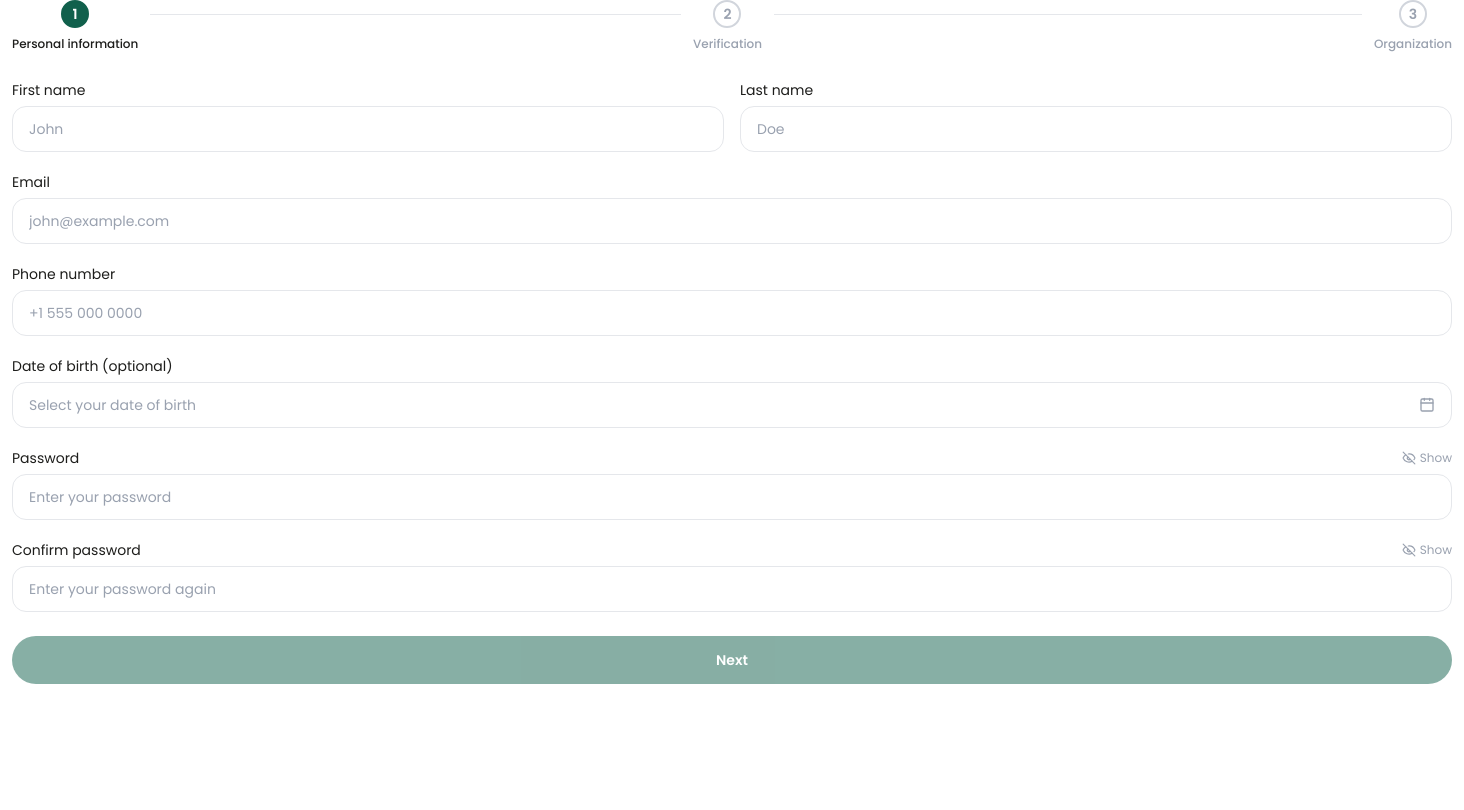
Test: SignUpForm › shows the phone-taken message on a phone-only 409 without checking status or navigating
Type "Sara" into the field with id "firstName" at [368, 129], box [12, 106, 724, 152]
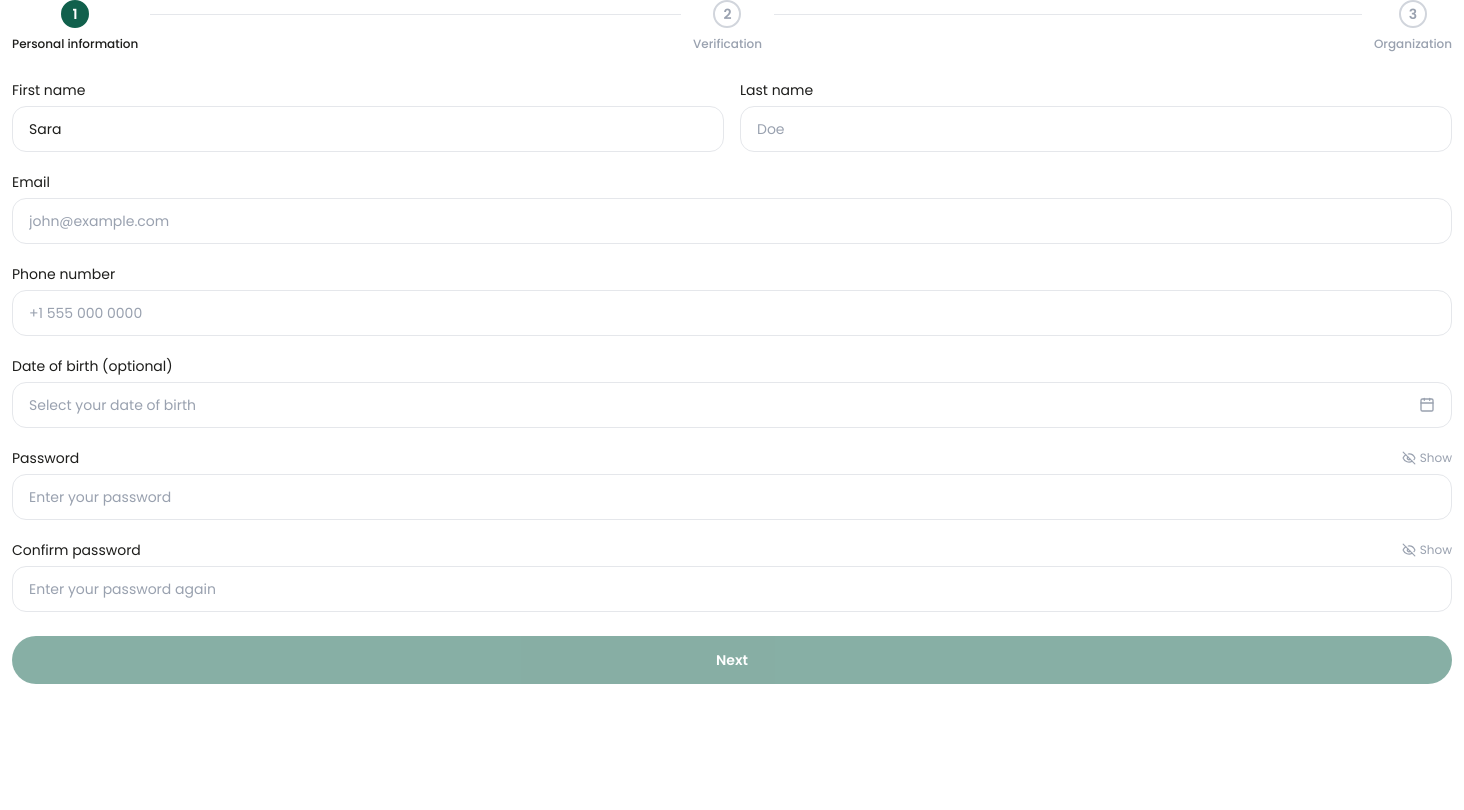
Type "Ali" into the field with id "lastName" at [1096, 129], box [740, 106, 1452, 152]
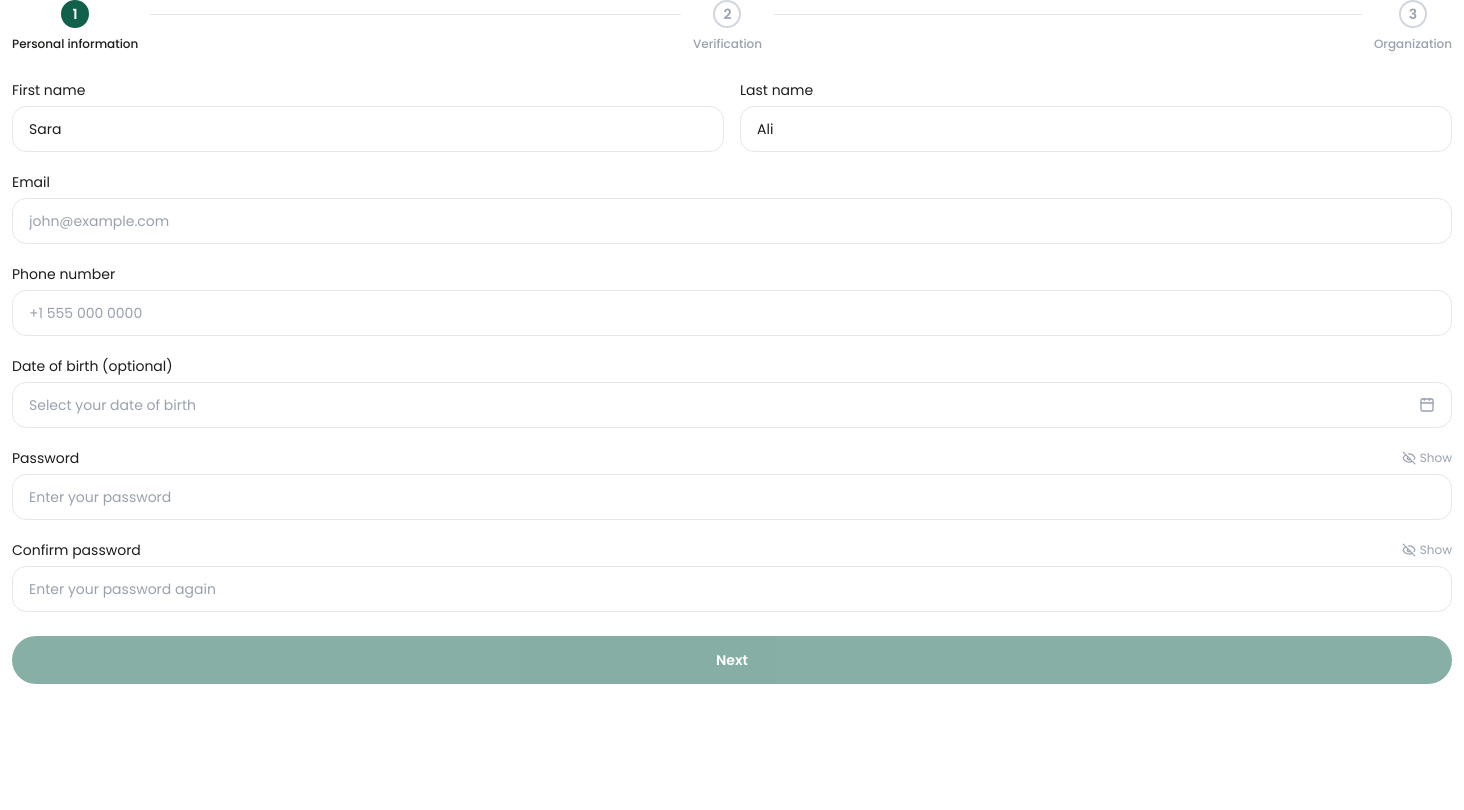
Type "sara@example.com" into the field with id "email" at [732, 221], box [12, 198, 1452, 244]
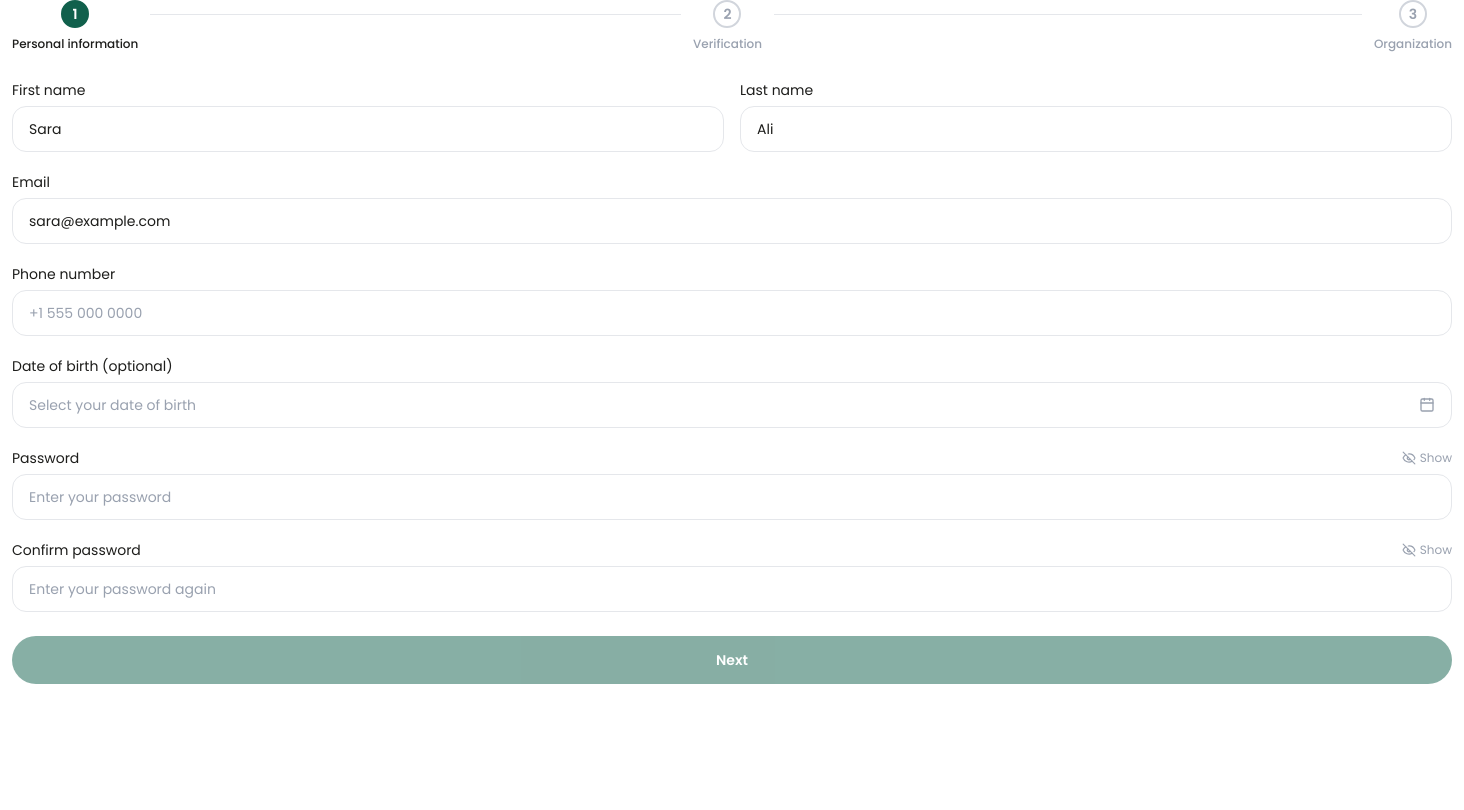
Type "Password1!" into the password field labelled "Password" at [732, 497], box [12, 474, 1452, 520]
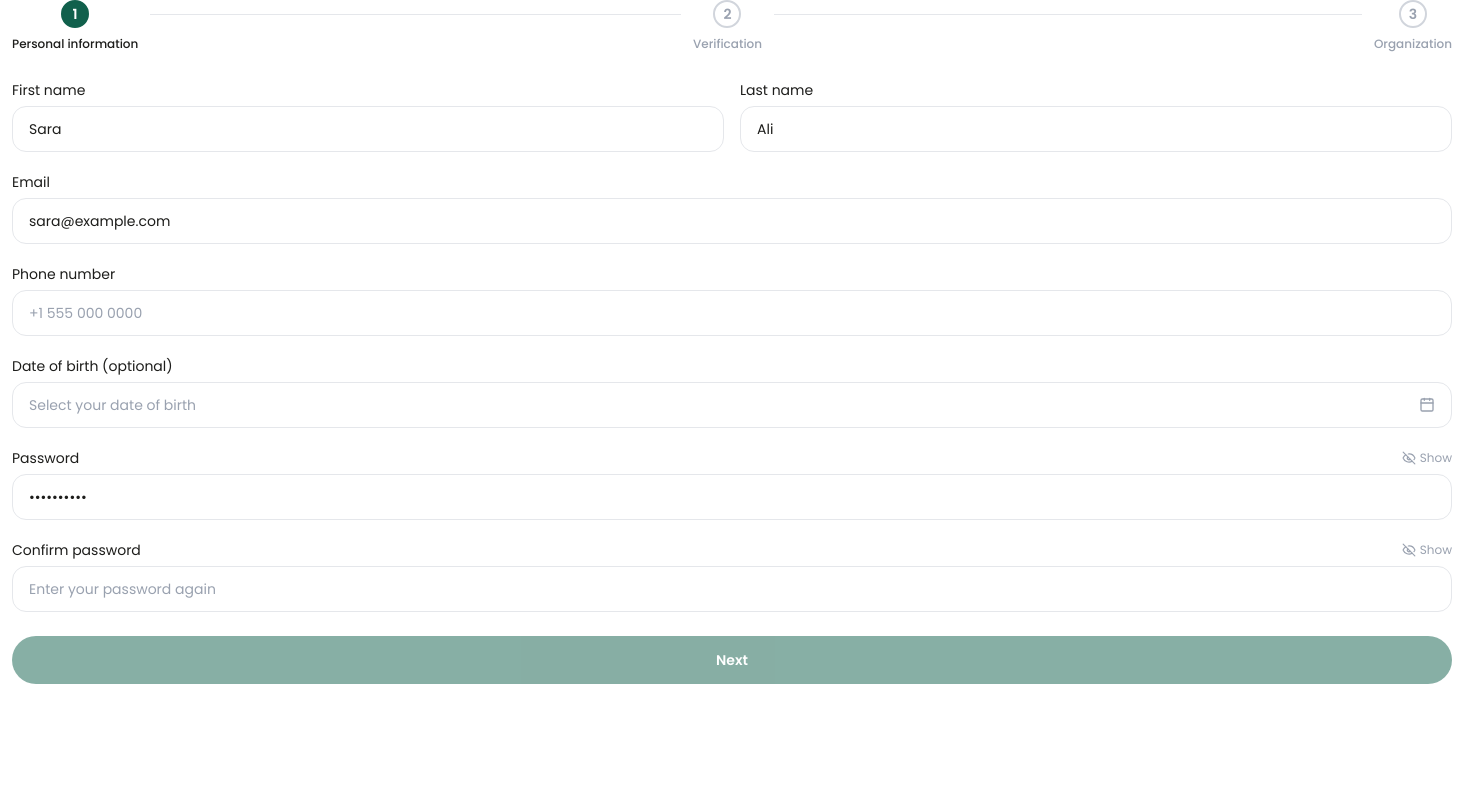
Type "Password1!" into the password field with id "confirmPassword" at [732, 589], box [12, 566, 1452, 612]
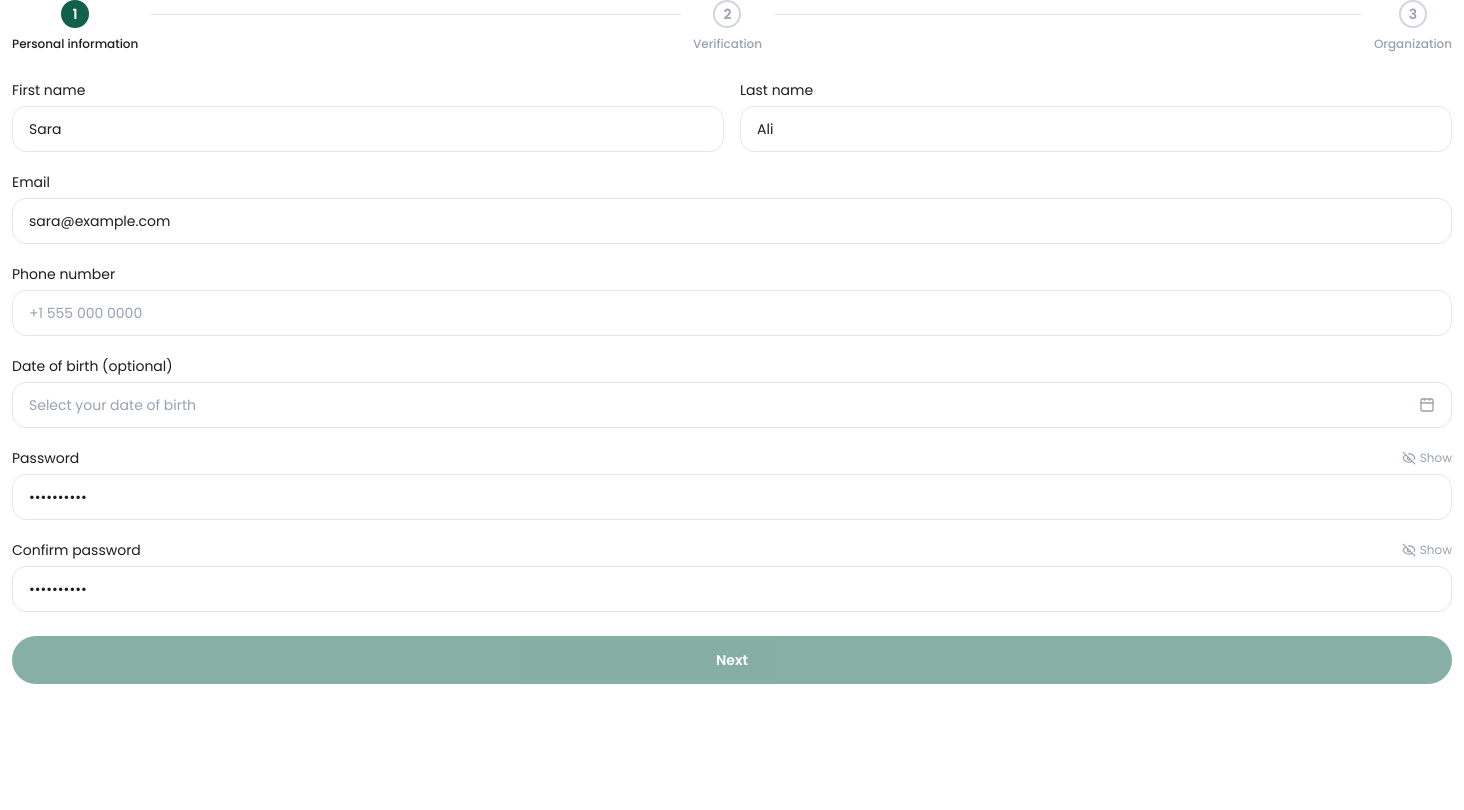
Submit the form with id "firstName"
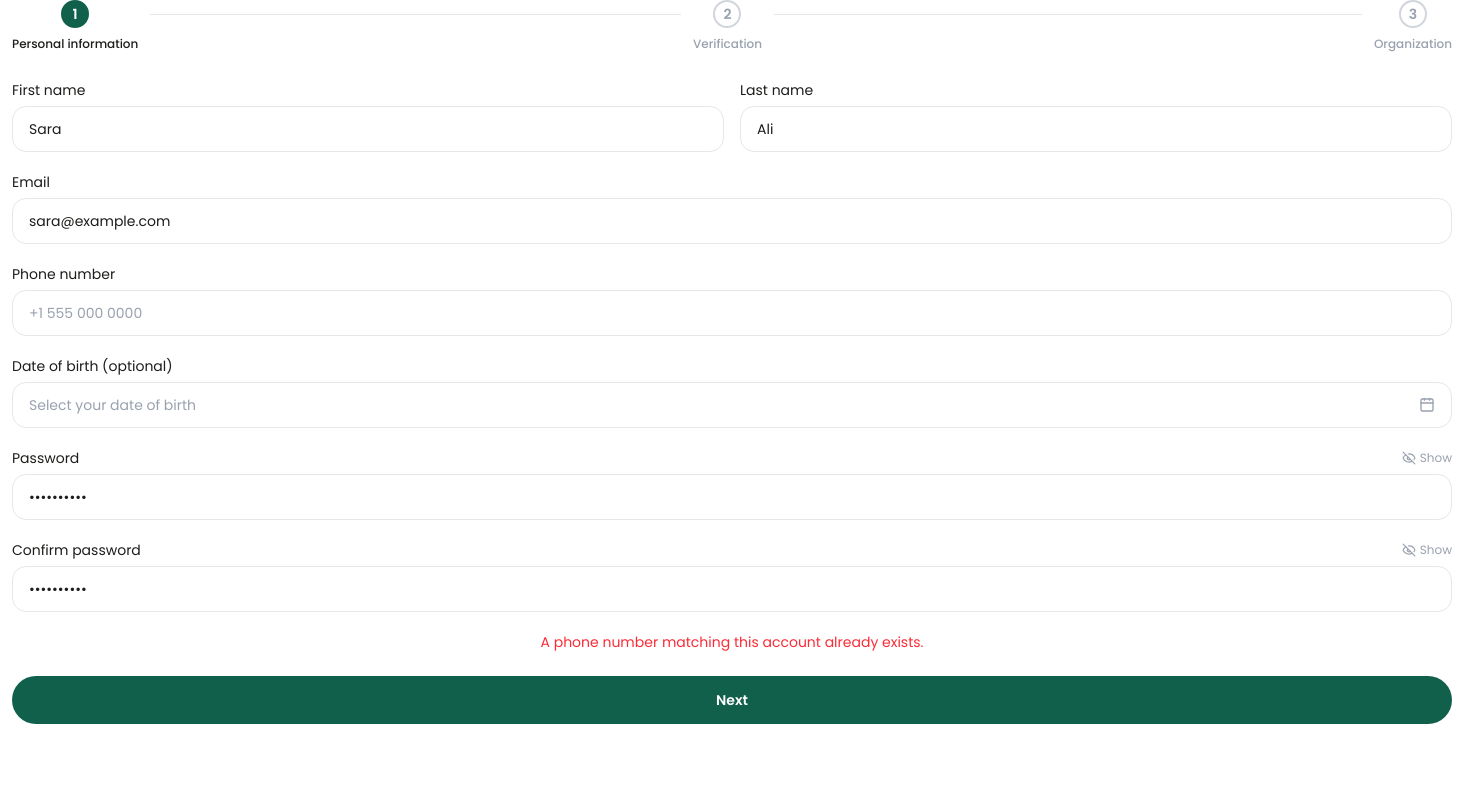
Expected: the text "A phone number matching this account already exists." is shown, [540, 632, 924, 652]
